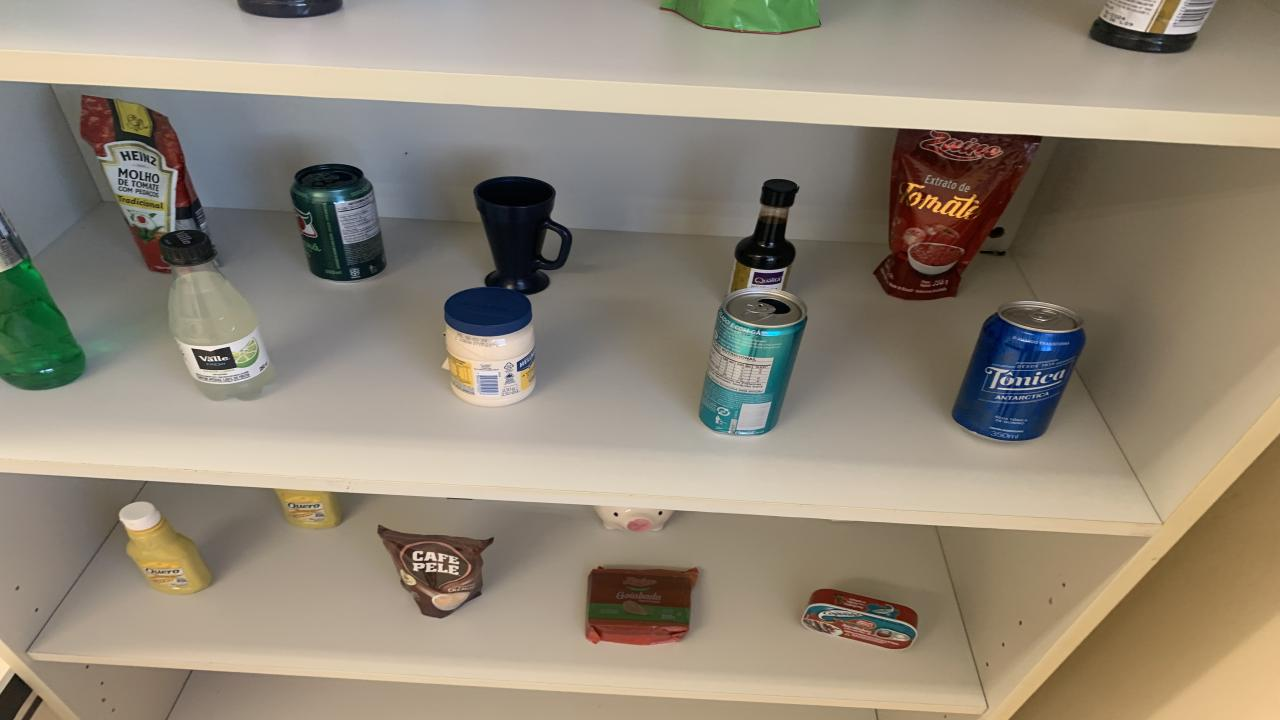Coffee-Pantry_Items: (378, 527, 492, 617)
Detergent-Cleanup_Items: (0, 208, 85, 390)
English_Sauce-Pantry_Items: (730, 180, 798, 292), (1090, 0, 1218, 52)
Guarana_Can-Drinks: (290, 163, 385, 281)
Guava-Snacks: (585, 566, 698, 645)
Mayonnaise-Pantry_Items: (442, 287, 535, 407)
Mustard-Pantry_Items: (120, 502, 212, 594), (275, 489, 342, 529)
Pig_Safe-Miscellaneous: (595, 506, 672, 532)
Soda-Drinks: (160, 231, 275, 399)
Tea-Drinks: (700, 287, 808, 435)
Tomato_Sauce-Pantry_Items: (875, 129, 1042, 300), (80, 96, 208, 272), (660, 0, 820, 34)
Tonic-Drinks: (952, 302, 1085, 441)
Tuna_Can-Pantry_Items: (802, 589, 918, 649)
